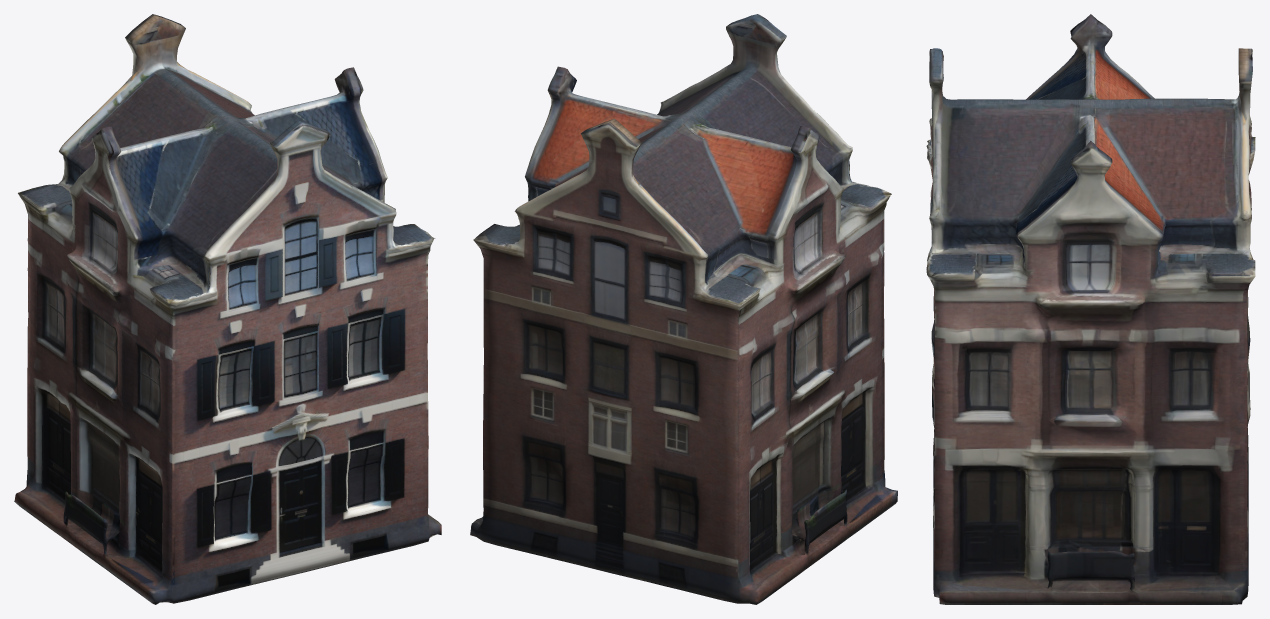
Rendered from AmsterdamHouse.glb.
The picture shows the model from 3 angles, left to right: view 1: azimuth 30°, elevation 25°; view 2: azimuth 150°, elevation 25°; view 3: azimuth 270°, elevation 25°; orthographic projection. The views are drawn at different scales.
Visible parts, largest first — view 1: AmsterdamHouse; view 2: AmsterdamHouse; view 3: AmsterdamHouse.
Boxes of the visible parts, bbox=[...] form: AmsterdamHouse: bbox=[14, 14, 441, 604]; AmsterdamHouse: bbox=[470, 14, 897, 604]; AmsterdamHouse: bbox=[926, 14, 1255, 604].
Bounding box in the file's own units: 9.35 × 13.99 × 8.65.
1 material, 1 textured.
